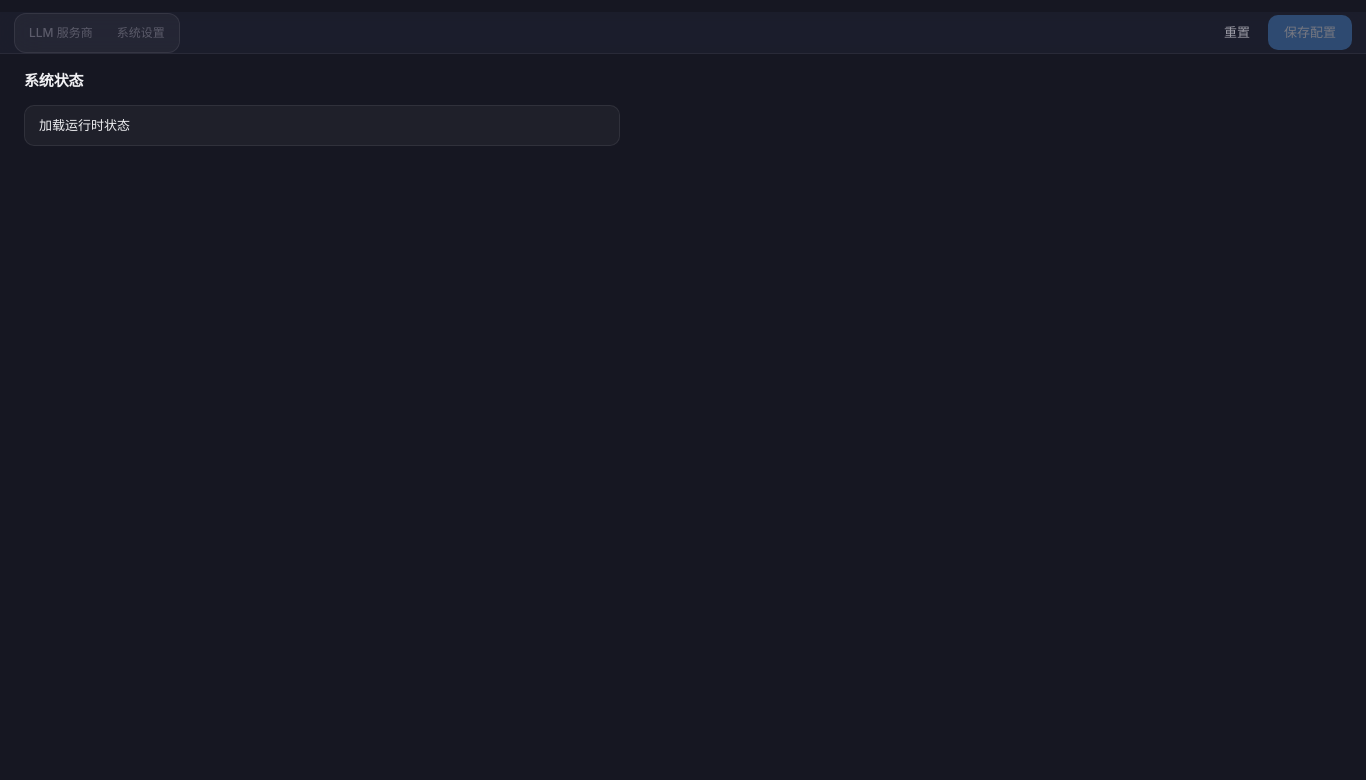
Test: SettingsView — E2E 关键路径 › tolerates null tool permission rules from backend without crashing the Status page
This screenshot has width=1366, height=780.
Click the button with class "hc-status__trigger" at (85, 124), box left=24, top=104, right=620, bottom=146
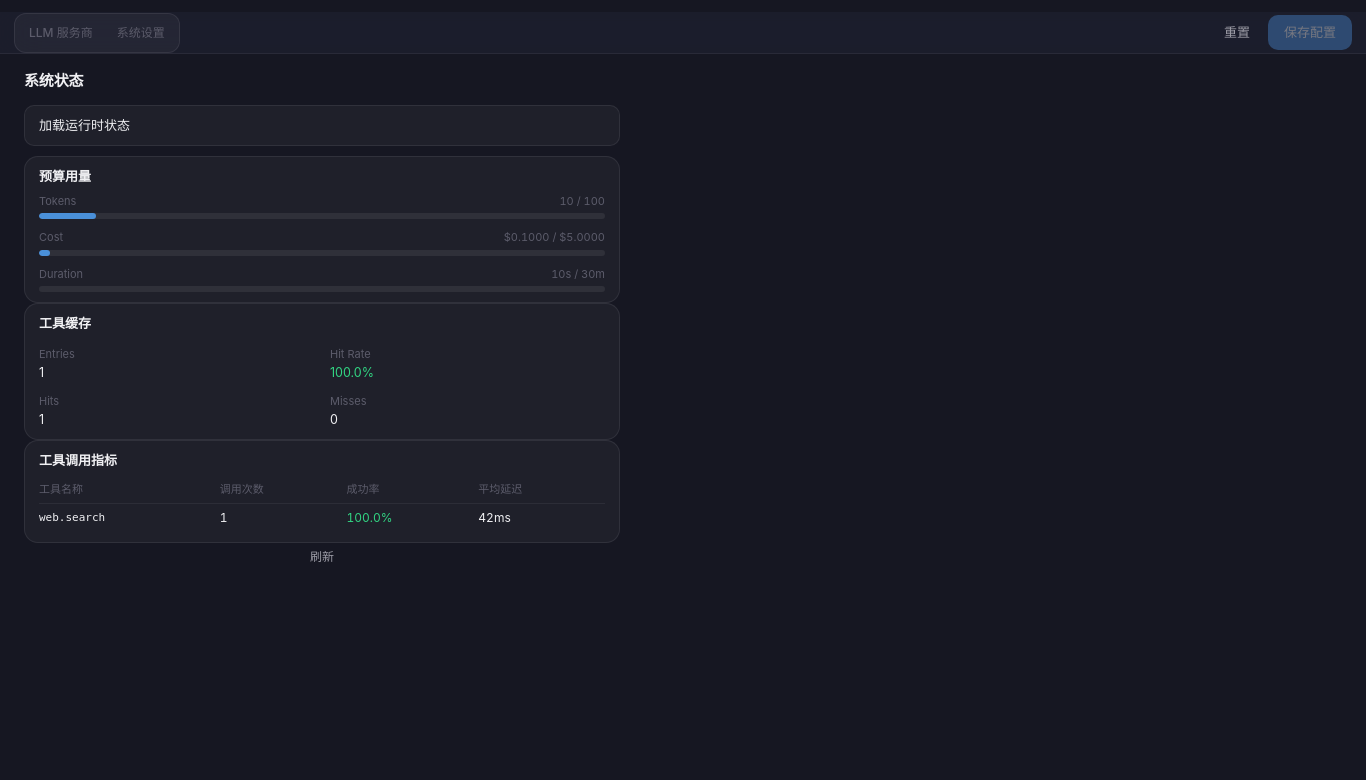
Check: the text "工具缓存" is shown, box left=39, top=315, right=91, bottom=331
